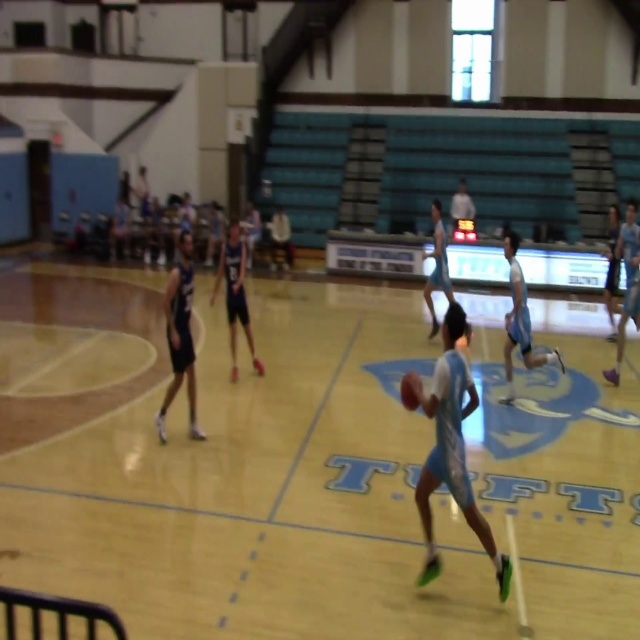Basketball: (400, 371, 423, 411), (422, 256, 437, 276)
